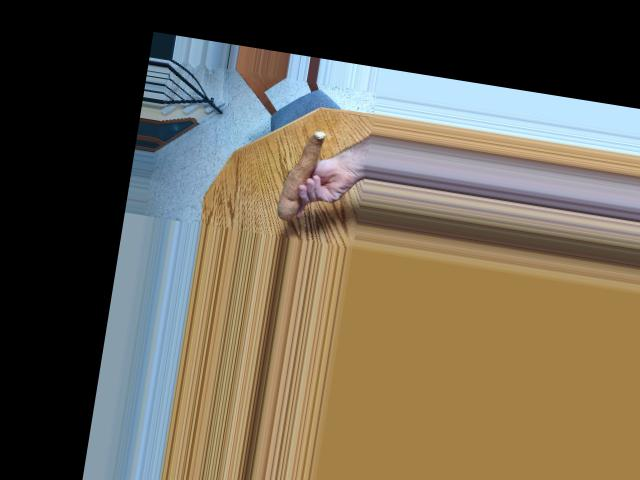sweet_potato: (271, 123, 328, 220)
